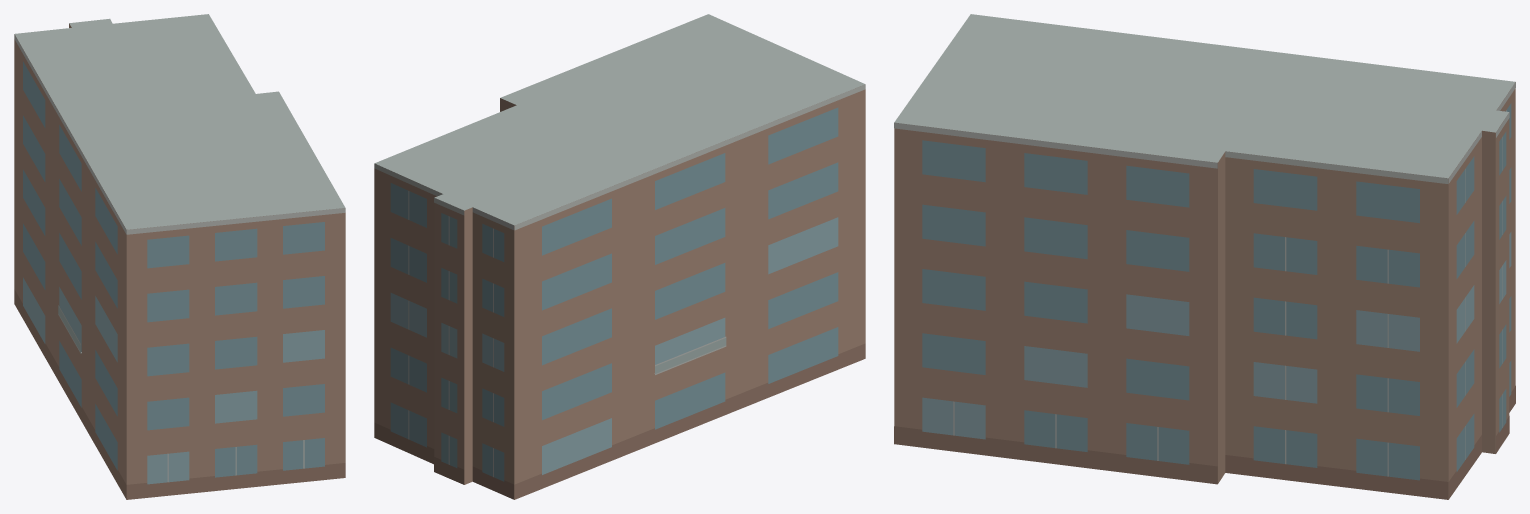
The model's file is survey-upis-32879436.glb.
3 renders of one model, left to right at view 1: azimuth 30°, elevation 25°; view 2: azimuth 150°, elevation 25°; view 3: azimuth 270°, elevation 25°, orthographic. The views are drawn at different scales.
Parts seen in each view (by area): view 1: survey-upis-32879436.tmp; view 2: survey-upis-32879436.tmp; view 3: survey-upis-32879436.tmp.
Boxes of the visible parts, x1,y1,x2,y2 form: survey-upis-32879436.tmp: [14, 14, 345, 499]; survey-upis-32879436.tmp: [374, 14, 865, 499]; survey-upis-32879436.tmp: [894, 14, 1515, 499].
Size of the model in its own units: 14.58 by 13.3 by 23.31.
